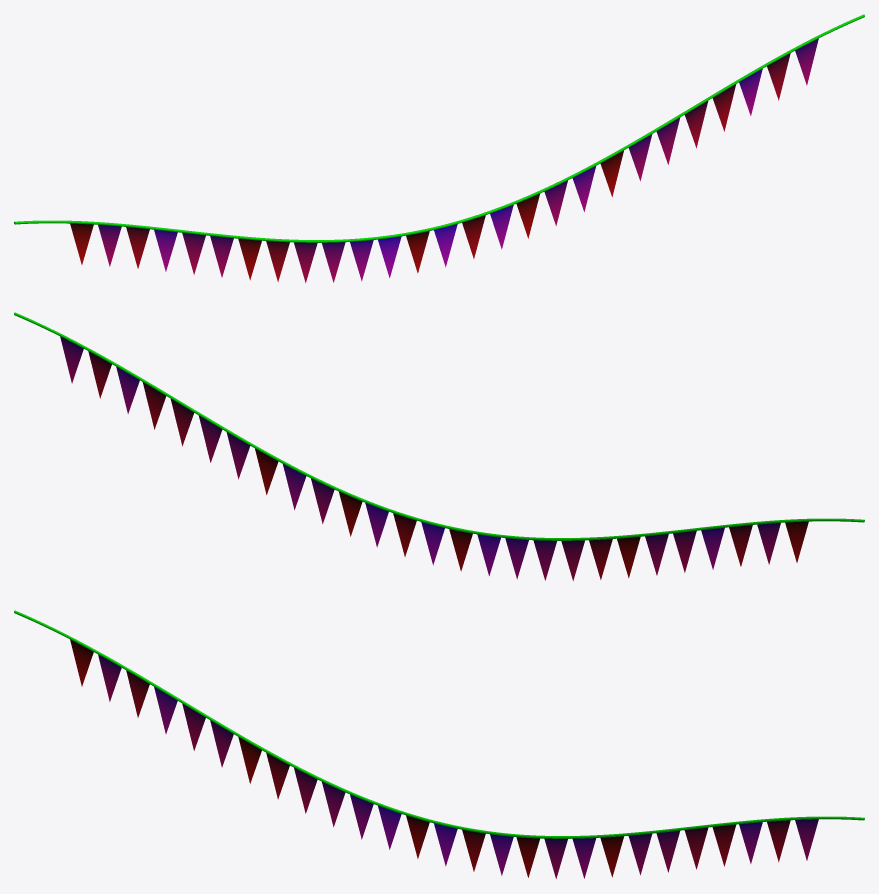
File: SM_Flags.fbx
The picture shows the model from 3 angles, top to bottom: view 1: azimuth 30°, elevation 25°; view 2: azimuth 150°, elevation 25°; view 3: azimuth 330°, elevation 25°; orthographic projection.
Parts seen in each view (by area): view 1: pCylinder3; view 2: pCylinder3; view 3: pCylinder3.
Part boxes in pixels (x1,y1,x2,y2): pCylinder3: [14, 14, 864, 282]; pCylinder3: [14, 312, 864, 580]; pCylinder3: [14, 610, 864, 878].
Size of the model in its own units: 500 by 84.96 by 1.47.
